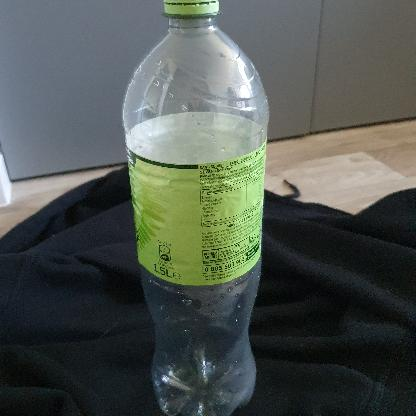Plastic Bottle: (122, 0, 270, 416)
